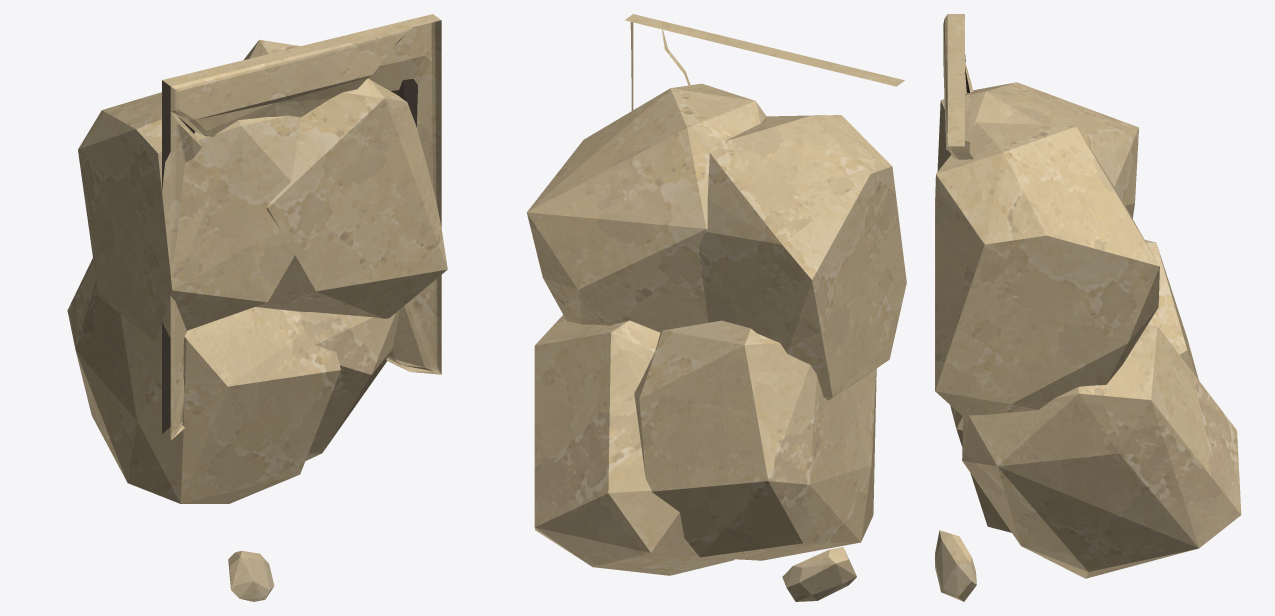
The model's file is ground_bottom_edge_01.glb.
The picture shows the model from 3 angles, left to right: view 1: azimuth 30°, elevation 25°; view 2: azimuth 150°, elevation 25°; view 3: azimuth 270°, elevation 25°; orthographic projection.
Parts seen in each view (by area): view 1: GroundBottomEdge01_Body; view 2: GroundBottomEdge01_Body; view 3: GroundBottomEdge01_Body.
Boxes of the visible parts, x1,y1,x2,y2 form: GroundBottomEdge01_Body: [67, 14, 447, 601]; GroundBottomEdge01_Body: [527, 14, 906, 601]; GroundBottomEdge01_Body: [935, 14, 1241, 601].
Bounding box in the file's own units: 1 × 1.9 × 1.04.
5 materials, 4 textured.
